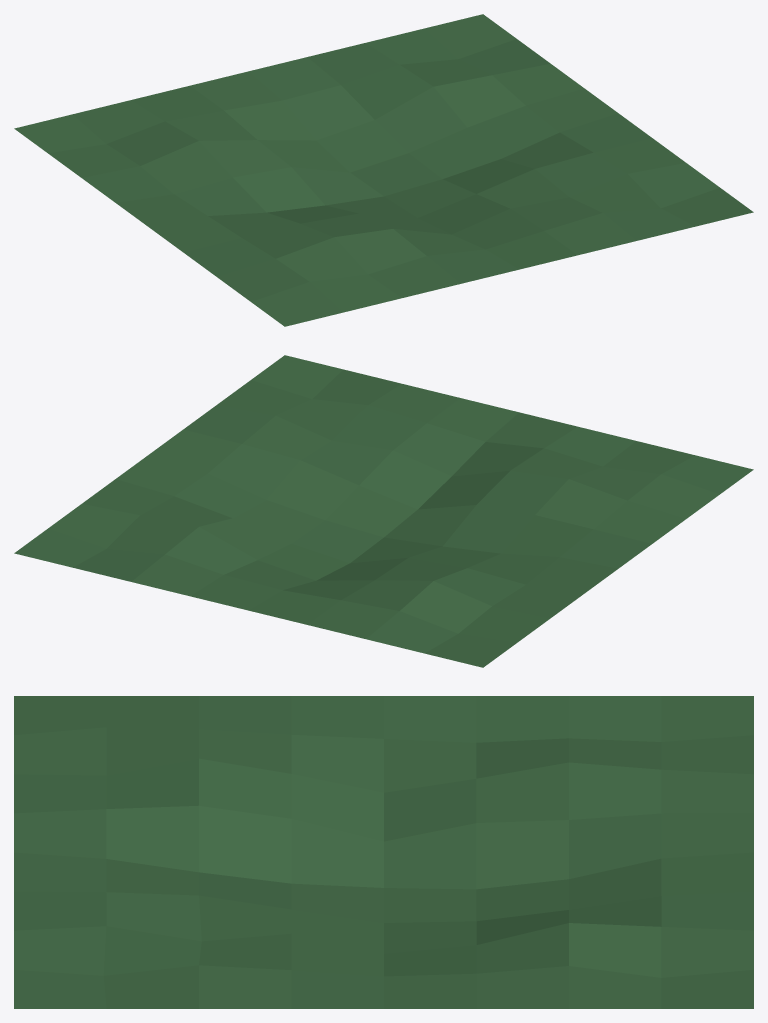
The model's file is Terrain_22_Light_Green.fbx.
The picture shows the model from 3 angles, top to bottom: view 1: azimuth 30°, elevation 25°; view 2: azimuth 150°, elevation 25°; view 3: azimuth 270°, elevation 25°; orthographic projection. The views are drawn at different scales.
Parts seen in each view (by area): view 1: Terrain_22_Light_Green; view 2: Terrain_22_Light_Green; view 3: Terrain_22_Light_Green.
Boxes of the visible parts, <box> form: Terrain_22_Light_Green: <box>14,14,753,326</box>; Terrain_22_Light_Green: <box>14,355,753,667</box>; Terrain_22_Light_Green: <box>14,696,753,1008</box>.
Bounding box in the file's own units: 10000 × 784 × 10000.
